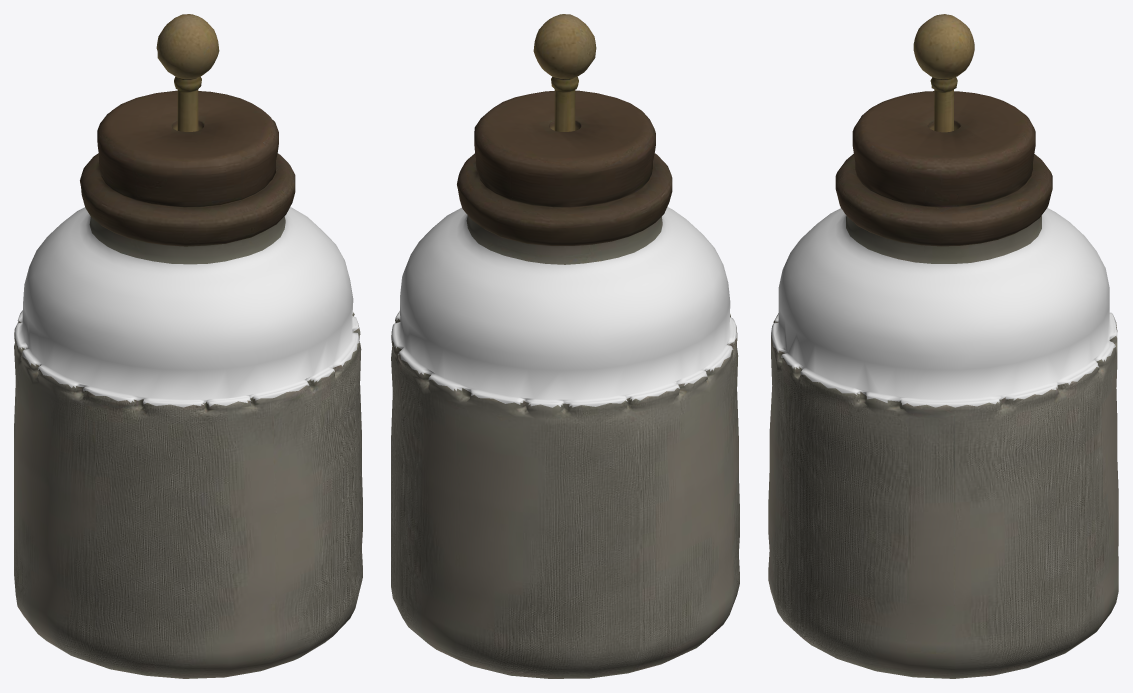
The model's file is leiden_glass.glb.
3 views of the same model, side by side, from view 1: azimuth 30°, elevation 25°; view 2: azimuth 150°, elevation 25°; view 3: azimuth 270°, elevation 25° (orthographic).
Visible parts, largest first — view 1: tripo_node_c1b7aa7c-e1ae-4da3-9abe-ffb09f3ca36a; view 2: tripo_node_c1b7aa7c-e1ae-4da3-9abe-ffb09f3ca36a; view 3: tripo_node_c1b7aa7c-e1ae-4da3-9abe-ffb09f3ca36a.
Part boxes in pixels (x1,y1,x2,y2): tripo_node_c1b7aa7c-e1ae-4da3-9abe-ffb09f3ca36a: (14,14,362,678); tripo_node_c1b7aa7c-e1ae-4da3-9abe-ffb09f3ca36a: (391,14,739,678); tripo_node_c1b7aa7c-e1ae-4da3-9abe-ffb09f3ca36a: (768,14,1118,678).
Bounding box in the file's own units: 0.1008 × 0.19 × 0.1004.
Materials: 2 (1 with a texture image).
